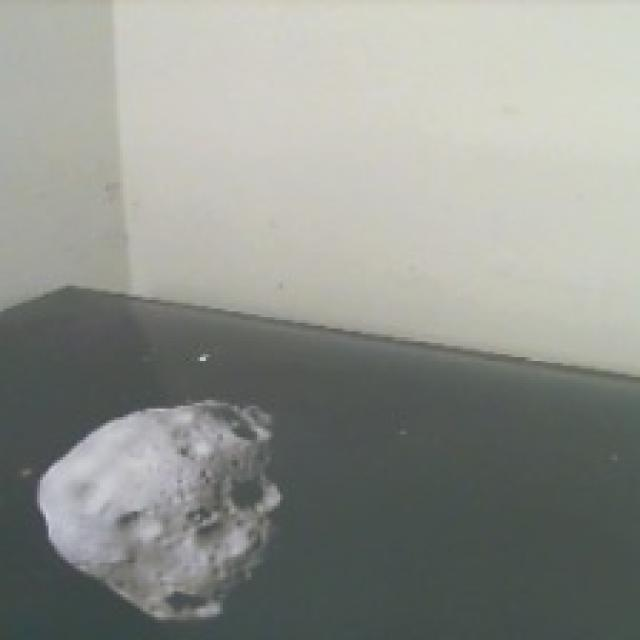Asteroid: (37, 396, 288, 628)
